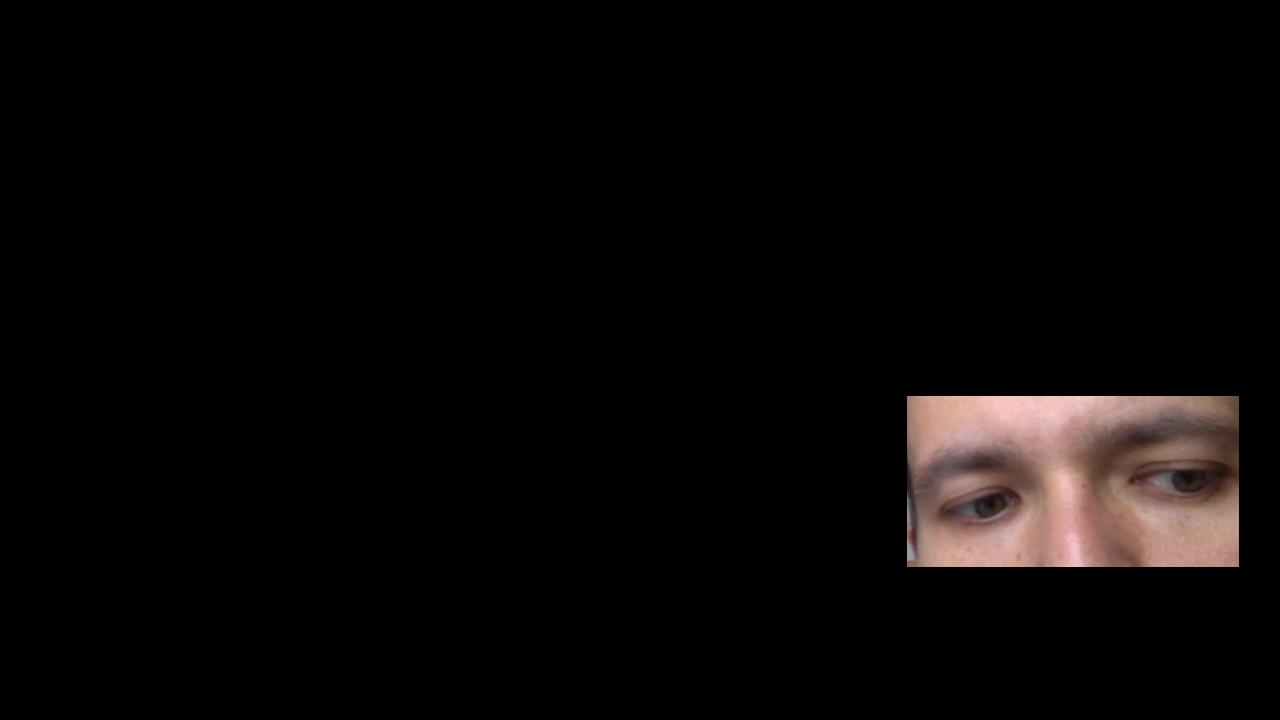eye: (1170, 467, 1209, 496), (975, 494, 1009, 516)
